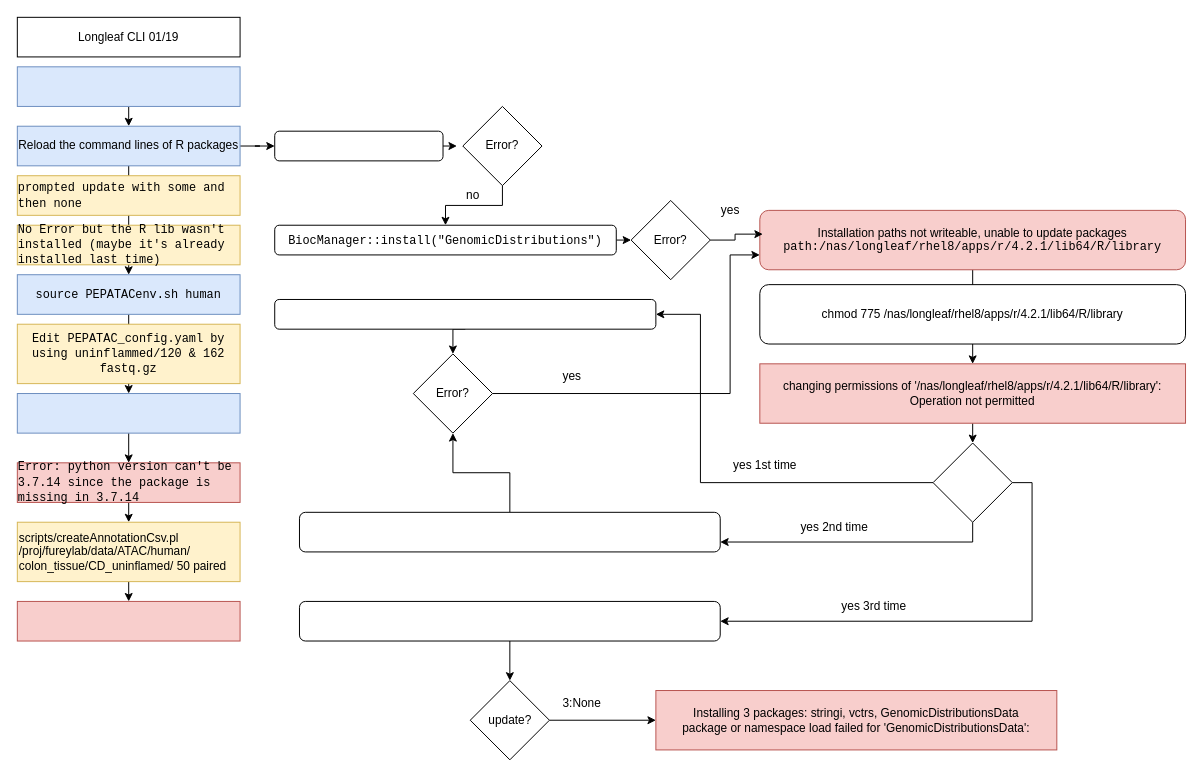
This 1203x777 diagram has some shape labels left out. The centre of each missing label's shape, as x and y in pixels:
BiocManager::install("ChIPseeker"): (x=509, y=531)
BiocManager::install("GenomicDistributionsData"): (x=465, y=313)
devtools::install_github("databio/pepatac", subdir="PEPATACr"): (x=509, y=620)
library(BiocManager): (x=358, y=145)
looper run PEPATAC_config.yaml: (x=128, y=413)
module load python/3.7.14: (x=128, y=86)
Permission Denied: (x=128, y=620)
skip?: (x=972, y=482)
